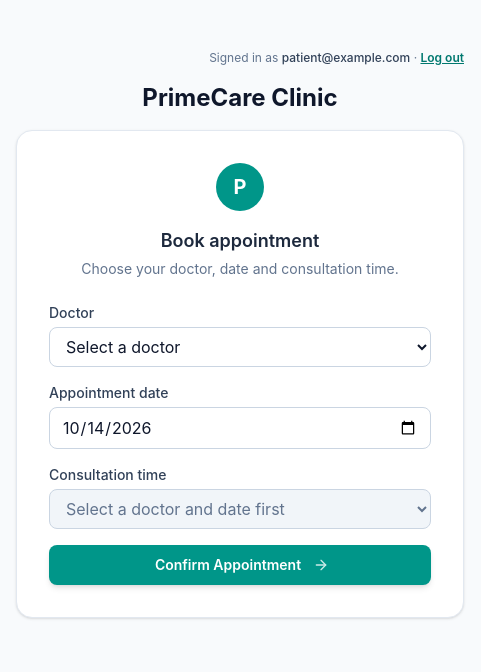
it: BookAppointment › reloads slots and clears the time when the server rejects the booking (400)
Step 1. Select "Dr. Sarah Perera - General Practitioner" in the dropdown labelled "Doctor" → (240, 347), box top-left (49, 327), bottom-right (431, 367)
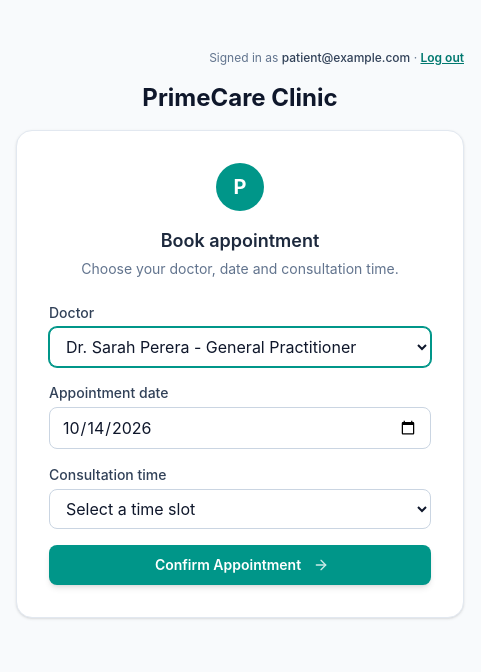
expect the dropdown labelled "Consultation time" is enabled: met
Step 2. Select "02:30 PM" in the dropdown labelled "Consultation time" → (240, 509), box top-left (49, 489), bottom-right (431, 529)
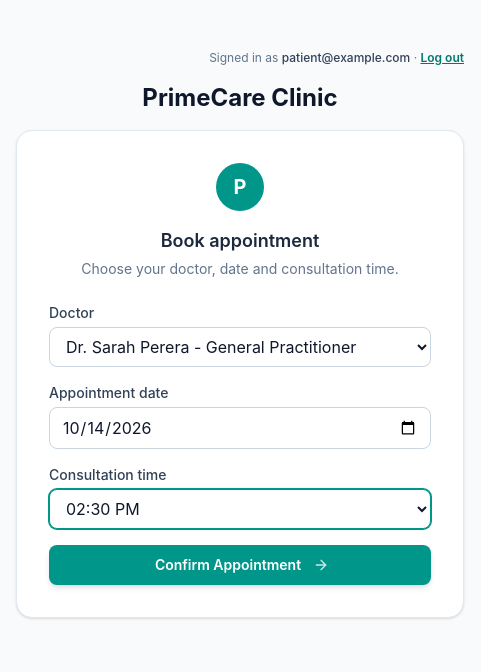
Step 3. Click the button "Confirm Appointment" → (240, 565), box top-left (49, 545), bottom-right (431, 585)
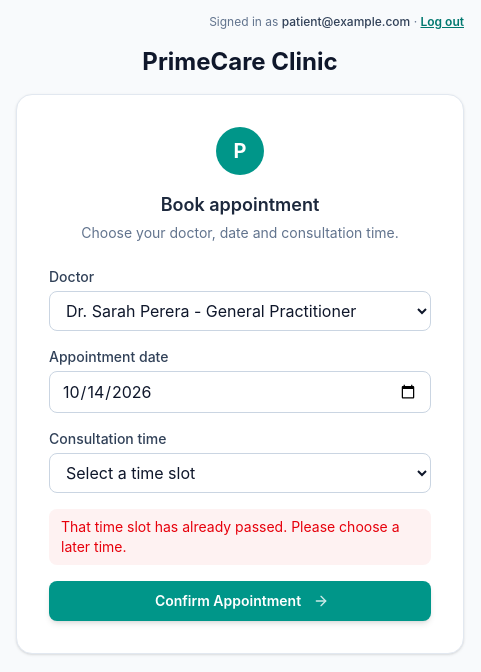
expect the button "Confirm Appointment" is enabled: met, box top-left (49, 581), bottom-right (431, 621)
expect the message reads "That time slot has already passed. Please choose a later time.": met, box top-left (61, 518), bottom-right (400, 555)
